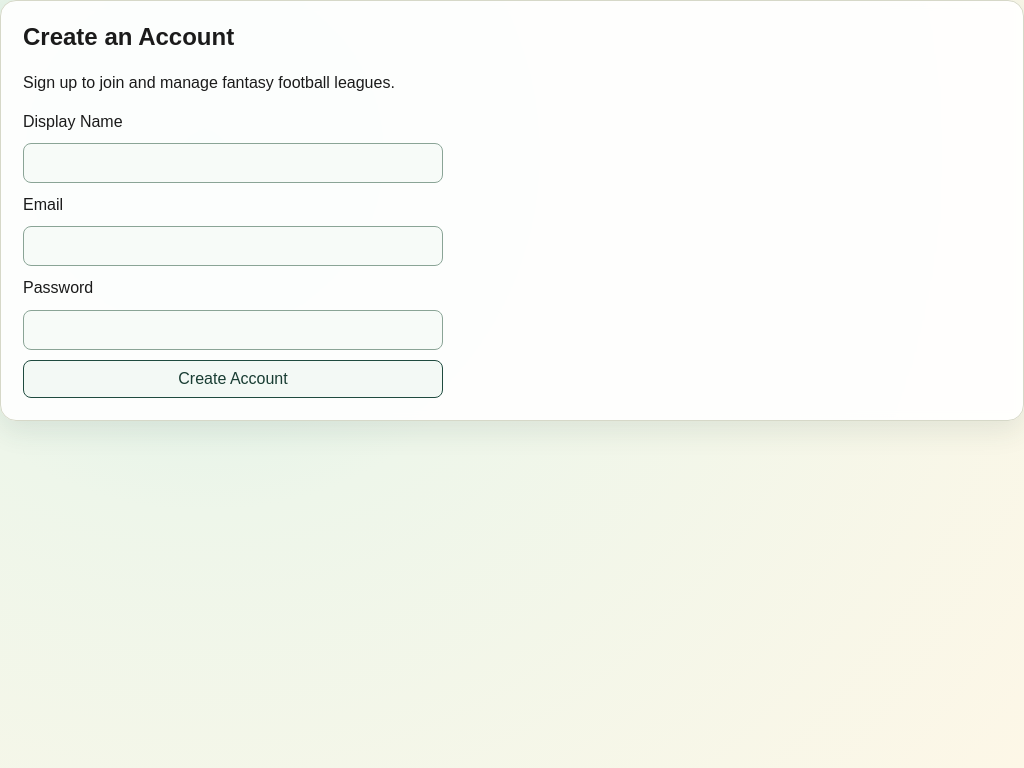
Scenario: RegisterPage › shows inline field error when password is too short
Type "New User" into the field labelled "Display Name".
click(233, 163); type("New User")  # box top-left (23, 143), bottom-right (443, 183)
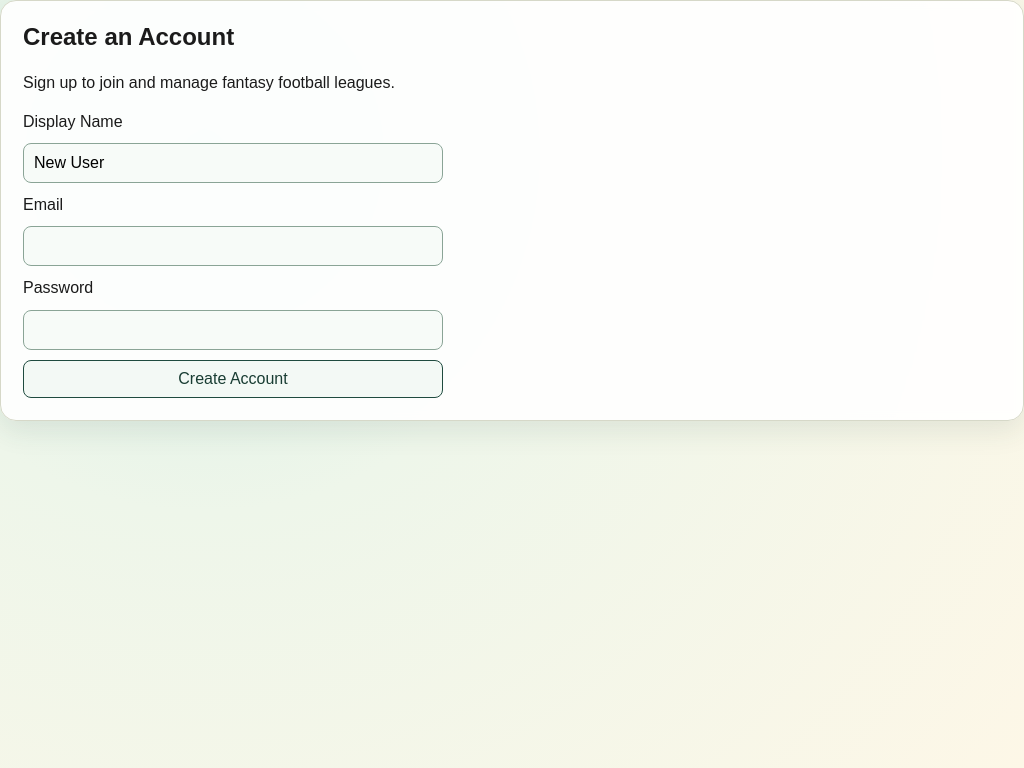
Type "test@example.com" into the field labelled "Email".
click(233, 246); type("test@example.com")  # box top-left (23, 226), bottom-right (443, 266)
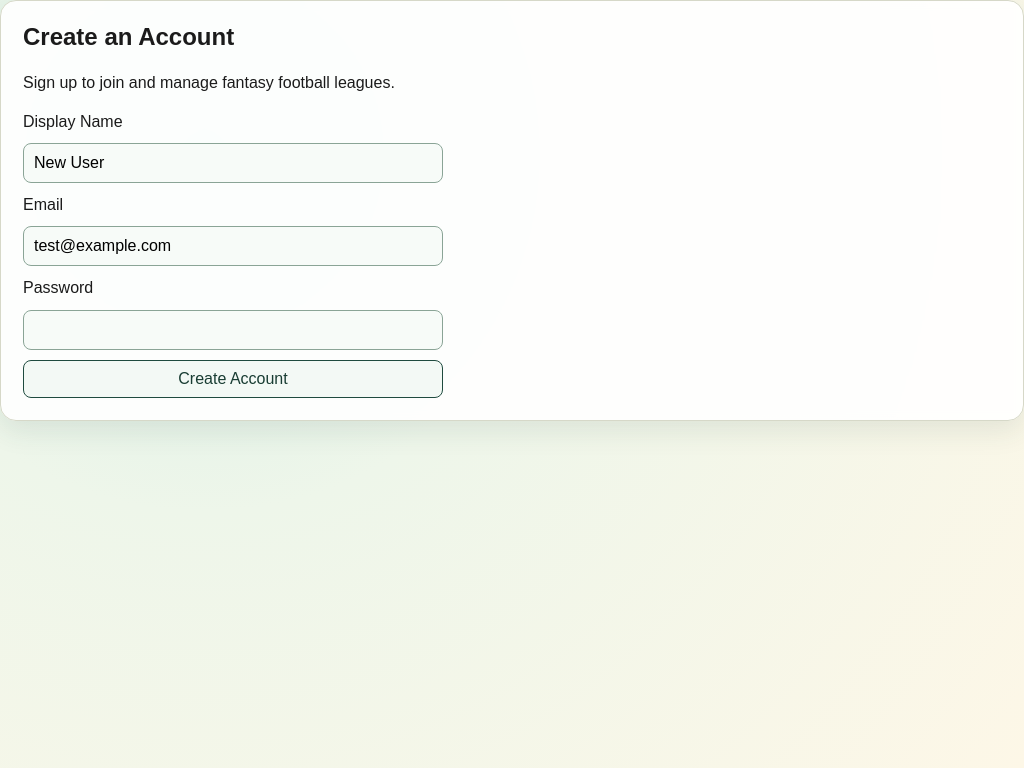
Type "short" into the password field labelled "Password".
click(233, 330); type("short")  # box top-left (23, 310), bottom-right (443, 350)
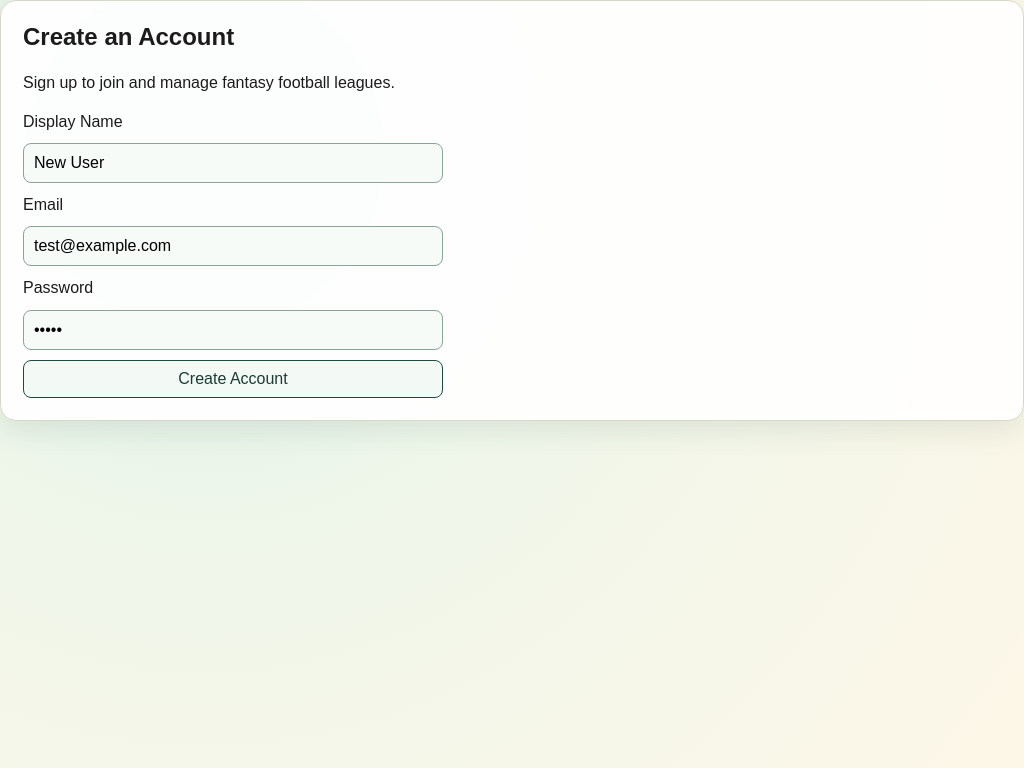
Click the button "Create Account".
click(233, 379)  # box top-left (23, 360), bottom-right (443, 398)
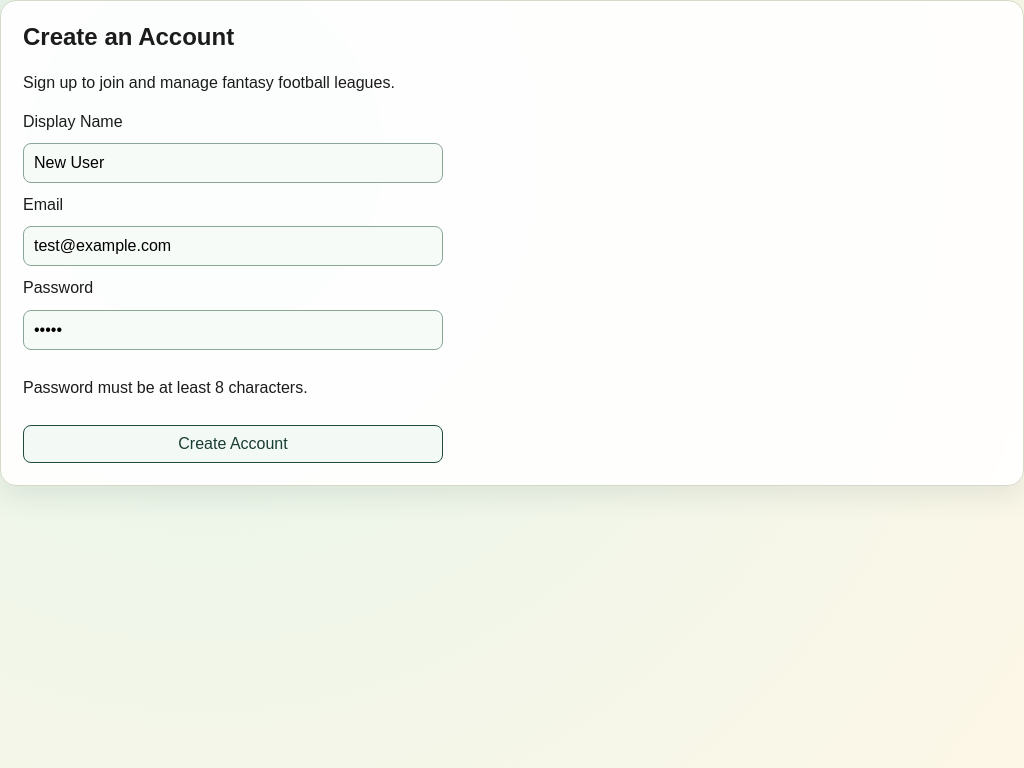
Now the text "Password must be at least 8 characters." is shown, box top-left (23, 379), bottom-right (308, 396)
